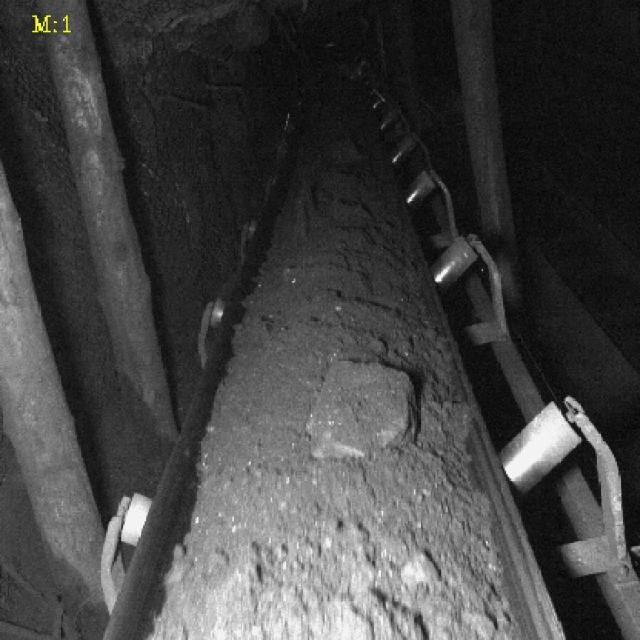large_sized_coal: (316, 362, 416, 456)
